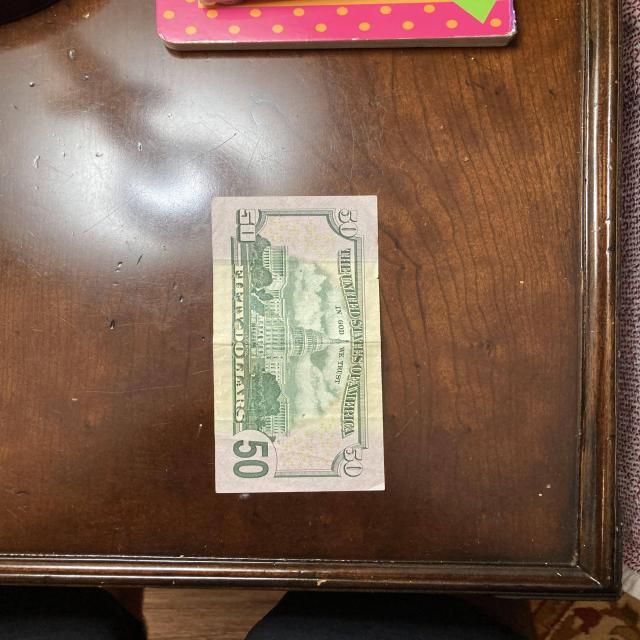fifty: (211, 194, 386, 496)
